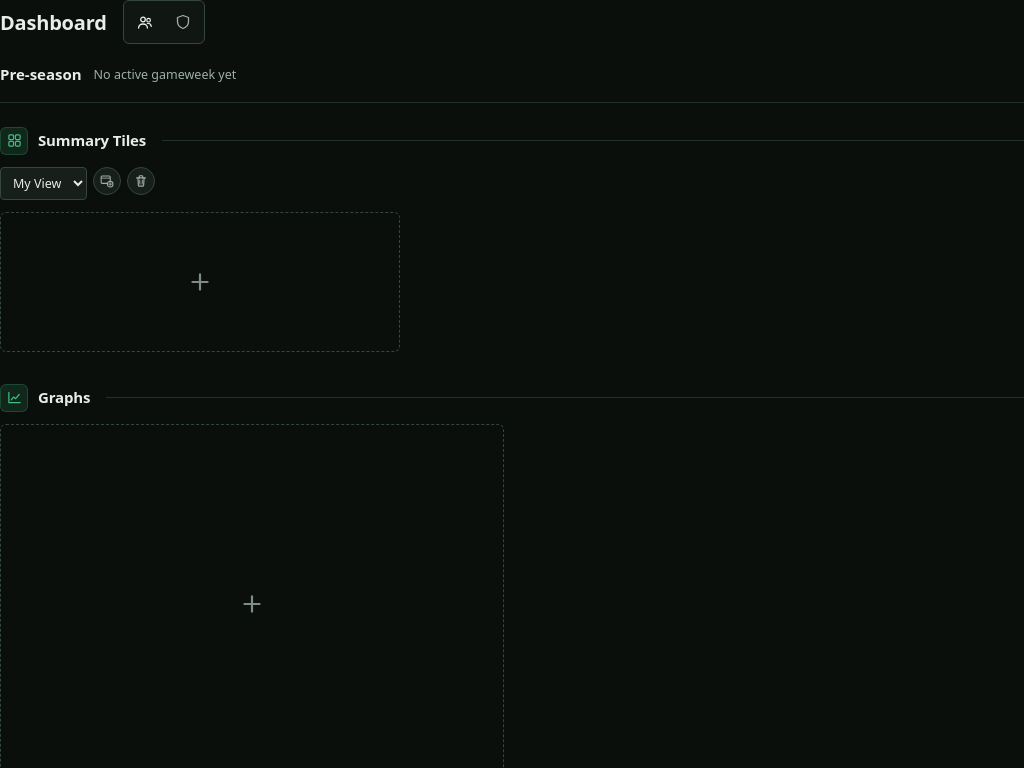
Test: Dashboard with Understat mounted › the Statistic picker groups figures as the Explorers' Columns picker does, and an Understat pick starts in its natural order
Step 1. Click the button named "Add Tile" → {"x": 200, "y": 282}, box [0,212,400,352]
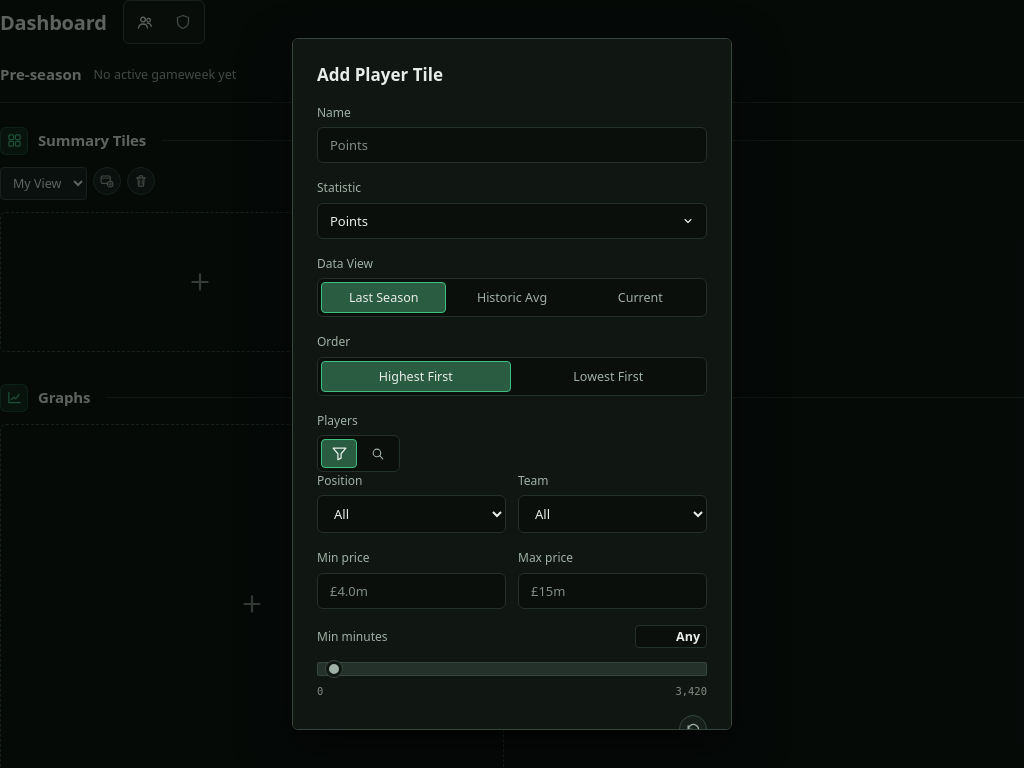
Step 2. Click the button with id "new-tile-metric" → {"x": 349, "y": 221}, box [317,203,707,239]
(page scrolled)
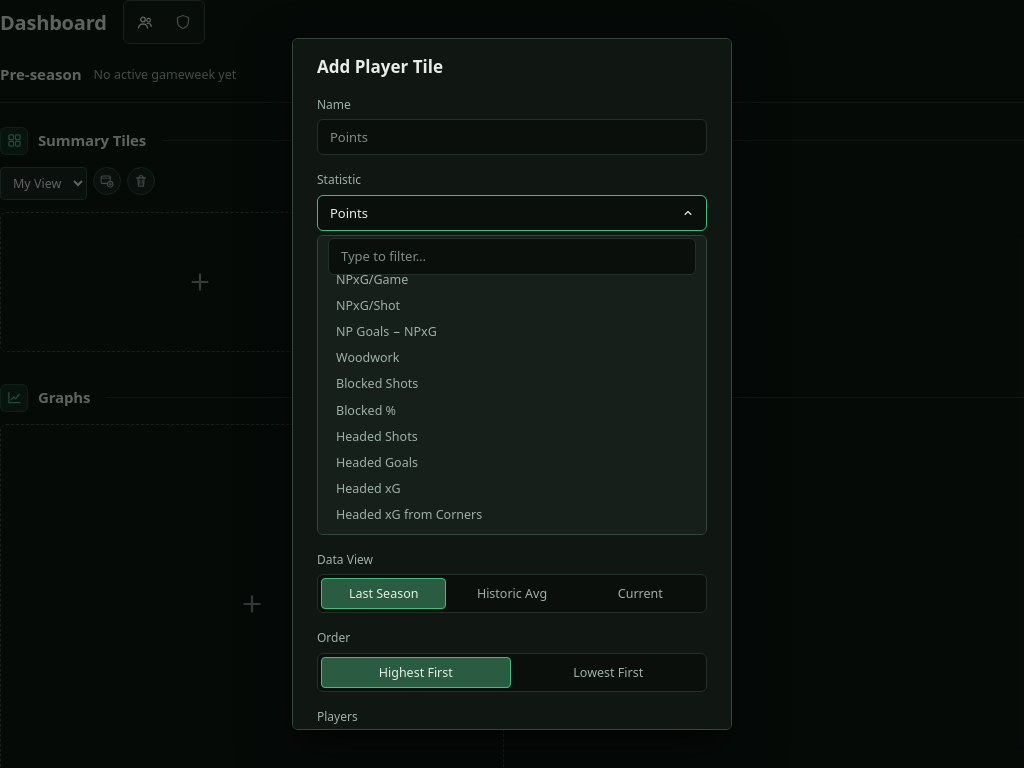
Step 3. Click the option "Blocked Shots" → {"x": 377, "y": 384}, box [336,375,418,392]
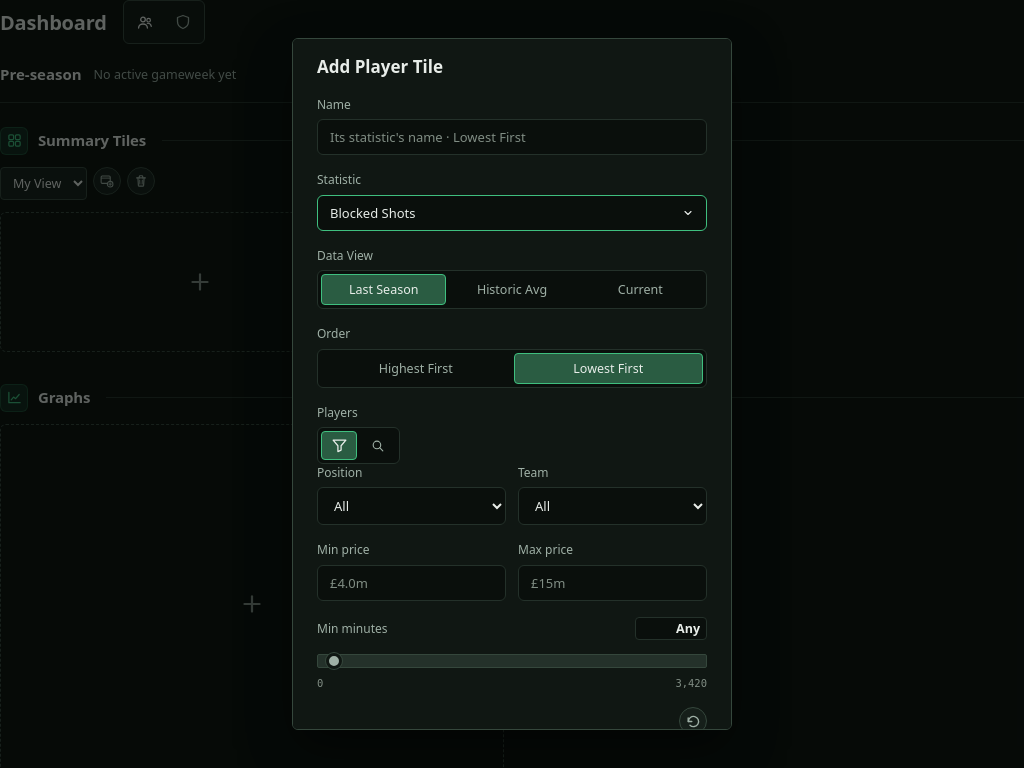
Expected: the button with id "new-tile-metric" reads "Blocked Shots", [317,195,707,231]
